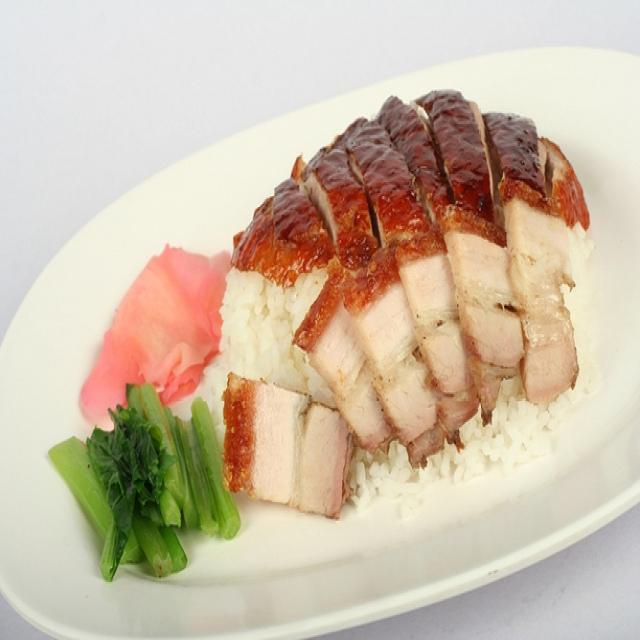米饭主食: (29, 44, 632, 610)
